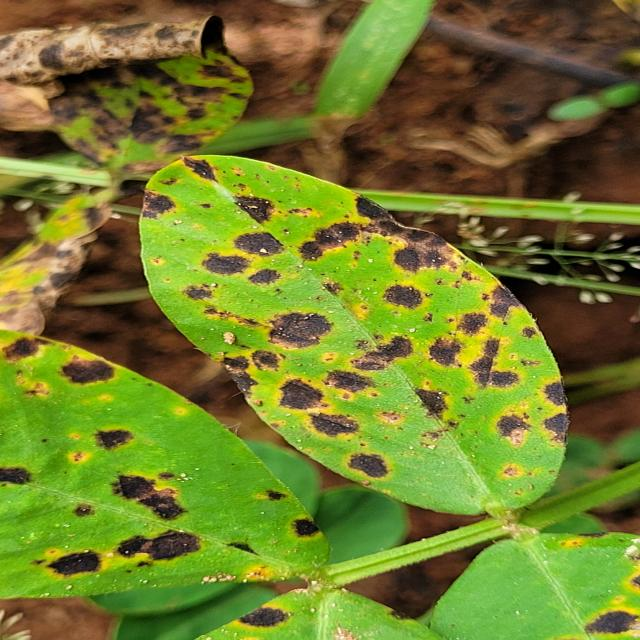Ground nut_tikka leaf spot: (139, 159, 576, 519)
